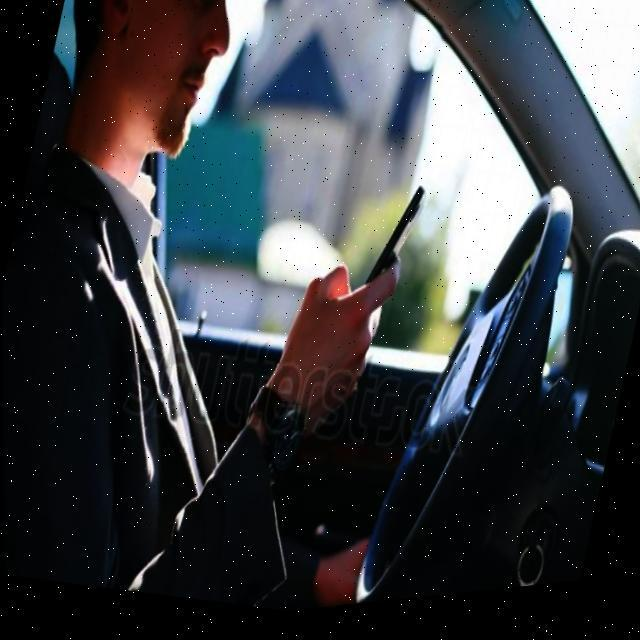PhoneCall: (348, 188, 428, 332)
